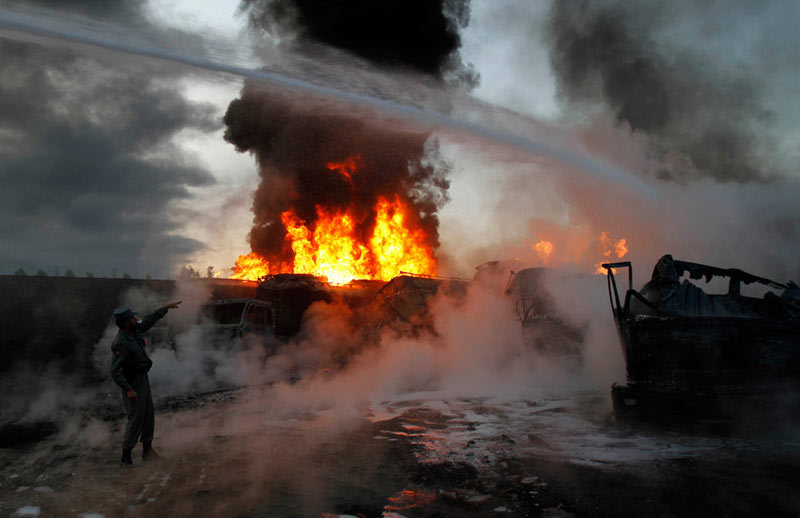fire: (223, 150, 453, 279), (526, 214, 630, 281)
